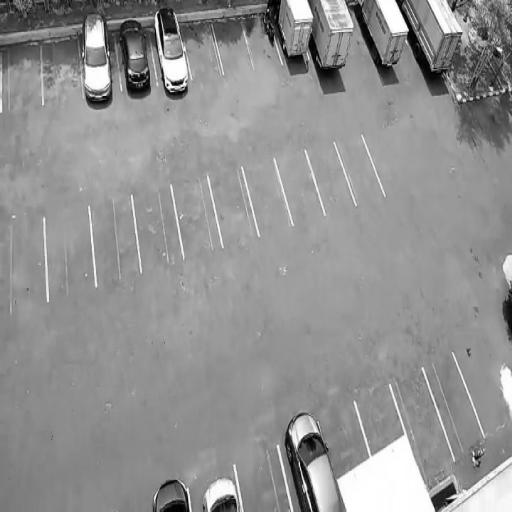Car: (82, 16, 115, 103), (156, 10, 188, 91), (120, 20, 152, 90)
Space Available: (390, 367, 454, 484), (422, 351, 484, 461), (209, 168, 264, 269), (244, 157, 296, 258), (45, 201, 96, 303), (275, 149, 329, 244), (305, 137, 359, 232), (173, 176, 224, 273), (0, 209, 49, 309), (132, 185, 185, 277), (334, 130, 389, 218), (92, 193, 141, 287), (317, 399, 369, 477), (235, 444, 291, 512), (179, 20, 228, 94), (356, 380, 404, 453), (42, 40, 82, 125), (242, 15, 287, 82), (211, 20, 257, 85), (3, 46, 41, 122)
